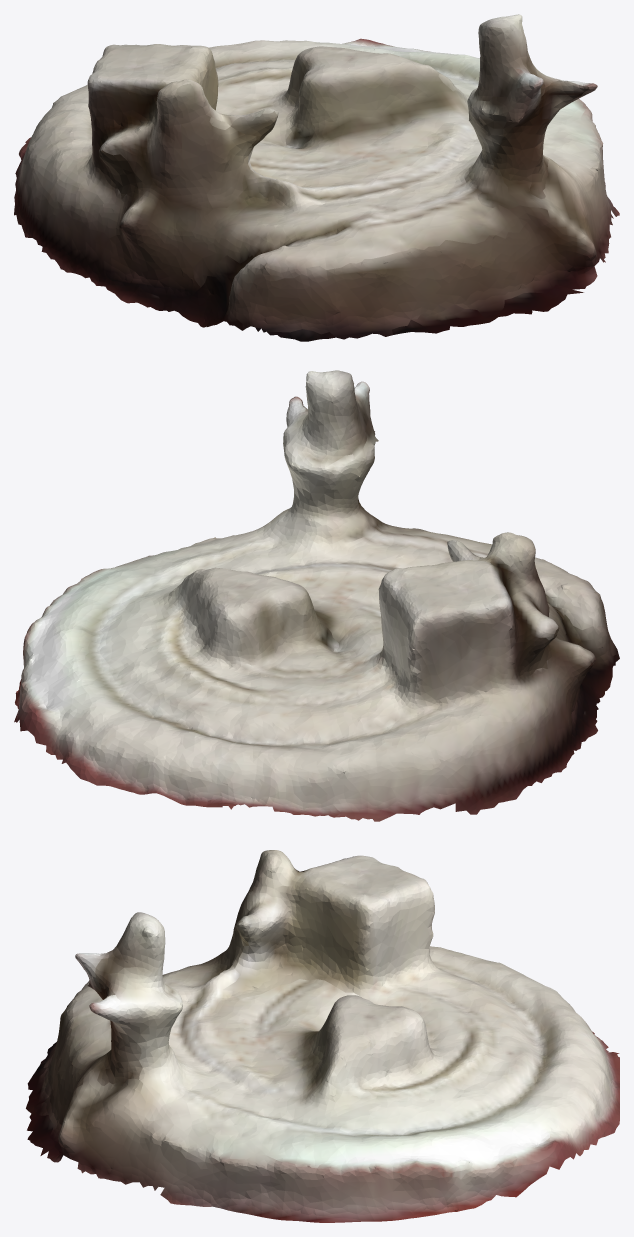
The model's file is Community.glb.
3 renders of one model, top to bottom at view 1: azimuth 30°, elevation 25°; view 2: azimuth 150°, elevation 25°; view 3: azimuth 270°, elevation 25°, orthographic. The views are drawn at different scales.
Parts seen in each view (by area): view 1: mesh.019; view 2: mesh.019; view 3: mesh.019.
Part boxes in pixels (x1,y1,x2,y2): mesh.019: (14,14,619,341); mesh.019: (14,370,619,821); mesh.019: (26,850,619,1222).
Size of the model in its own units: 0.396 by 0.1826 by 0.4309.
Materials: 1 (1 with a texture image).
